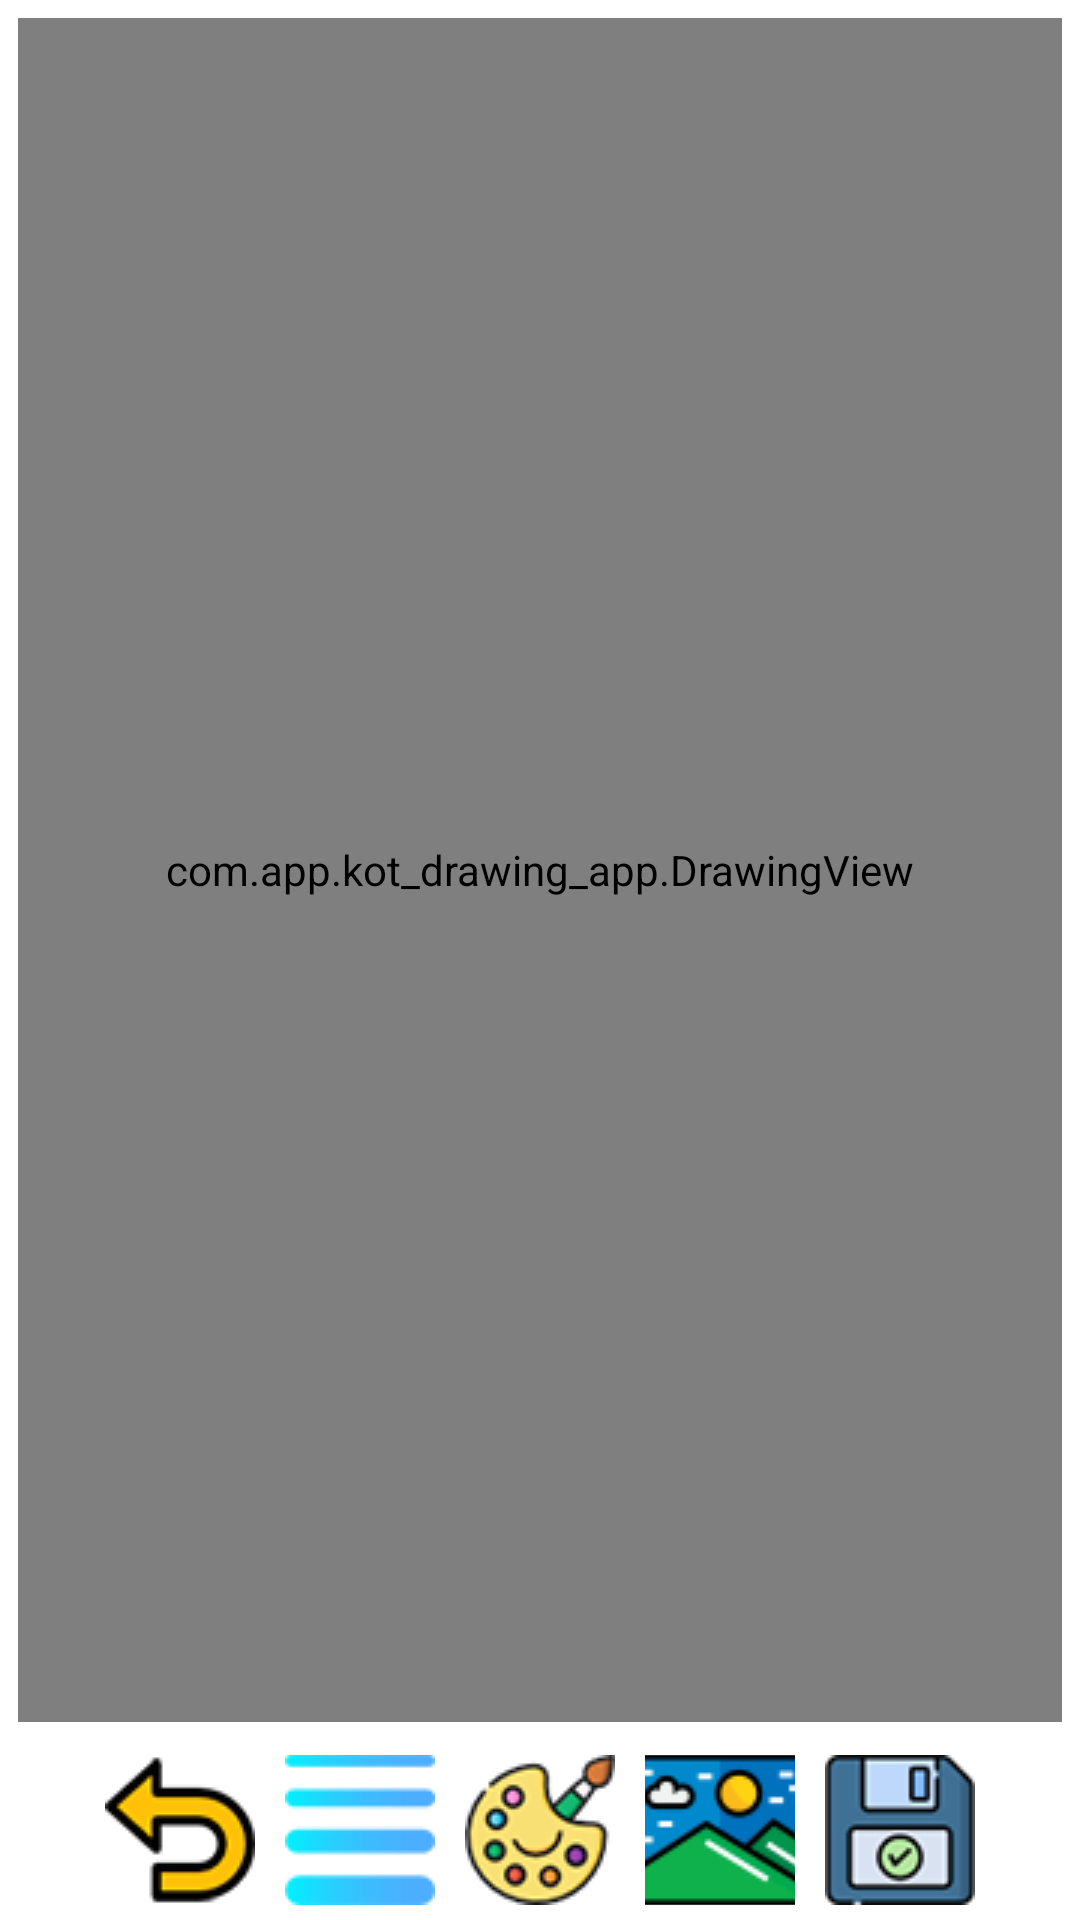

Named icons in this screenshot (1080w x 1920h) and their bounding boxes, box=[x1, y1, x2, y2]:
colors: box=[465, 1755, 615, 1905]
gallery image: box=[645, 1755, 795, 1905]
save: box=[825, 1755, 975, 1905]
undo: box=[105, 1757, 255, 1903]
